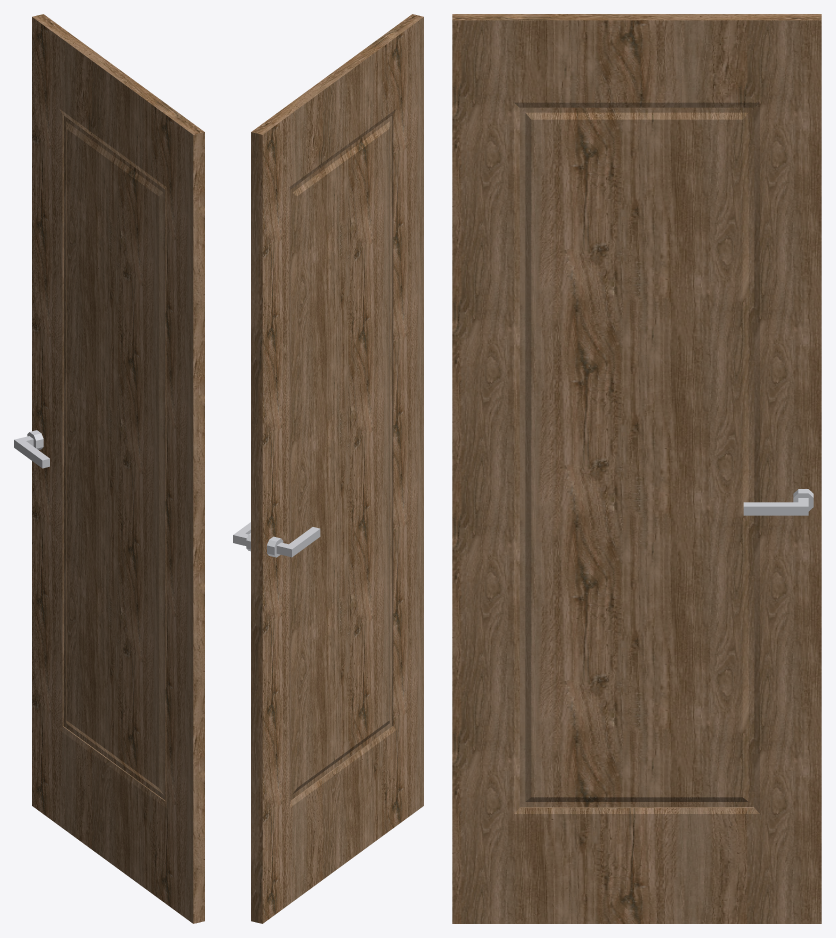
Rendered from CubeHouse_1_door_3.fbx.
The picture shows the model from 3 angles, left to right: view 1: azimuth 30°, elevation 25°; view 2: azimuth 150°, elevation 25°; view 3: azimuth 270°, elevation 25°; orthographic projection. The views are drawn at different scales.
Visible parts, largest first — view 1: GDLM1234_GDLM989_mLayer11_183.002; view 2: GDLM1234_GDLM989_mLayer11_183.002; view 3: GDLM1234_GDLM989_mLayer11_183.002.
Part boxes in pixels (x1,y1,x2,y2): GDLM1234_GDLM989_mLayer11_183.002: (14, 14, 204, 923); GDLM1234_GDLM989_mLayer11_183.002: (233, 14, 423, 923); GDLM1234_GDLM989_mLayer11_183.002: (452, 14, 821, 923).
Size of the model in its own units: 15.4 by 197 by 73.
